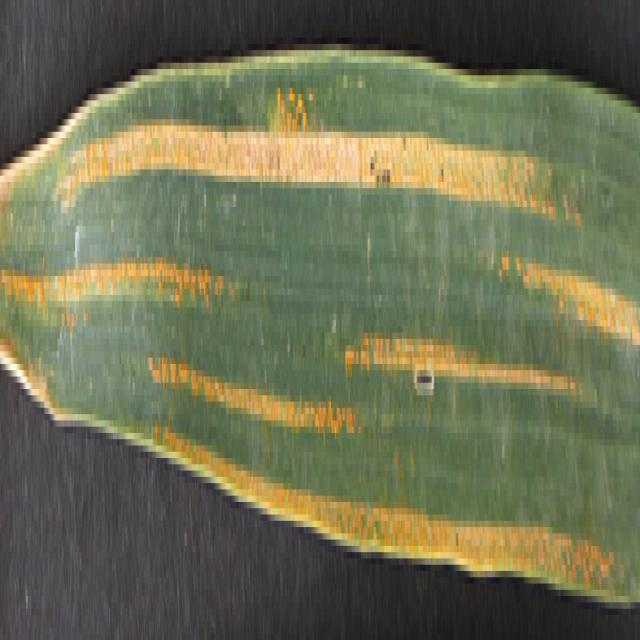leaf rust: (1, 50, 637, 602)
